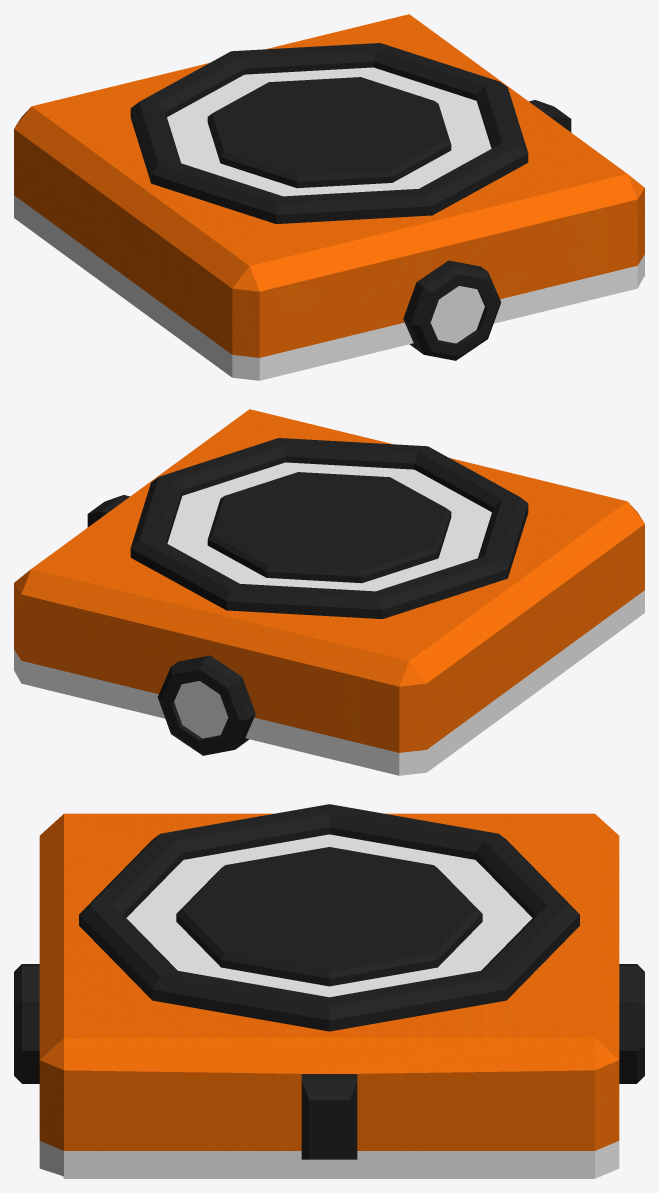
The model's file is robot.glb.
3 renders of one model, top to bottom at view 1: azimuth 30°, elevation 25°; view 2: azimuth 150°, elevation 25°; view 3: azimuth 270°, elevation 25°, orthographic. The views are drawn at different scales.
Visible parts, largest first — view 1: Cube; view 2: Cube; view 3: Cube.
Part boxes in pixels (x1=…): Cube: x1=14, y1=14, x2=644, y2=380; Cube: x1=14, y1=409, x2=644, y2=775; Cube: x1=14, y1=804, x2=644, y2=1178.
Bounding box in the file's own units: 2.13 × 0.6715 × 2.18.
Materials: 1 (1 with a texture image).
